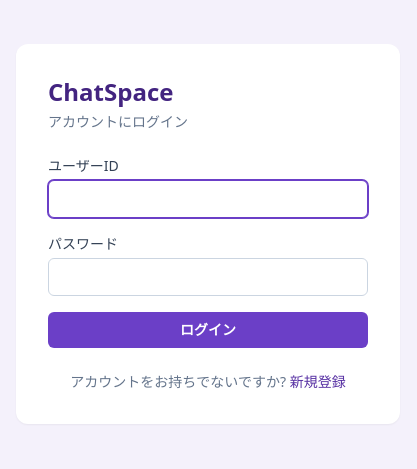
Test: LoginPage › 再送信時に前回のエラー表示をクリアする
Step 1. Type "alice" into the field labelled "ユーザーID" → x=208, y=199, box left=48, top=180, right=368, bottom=218
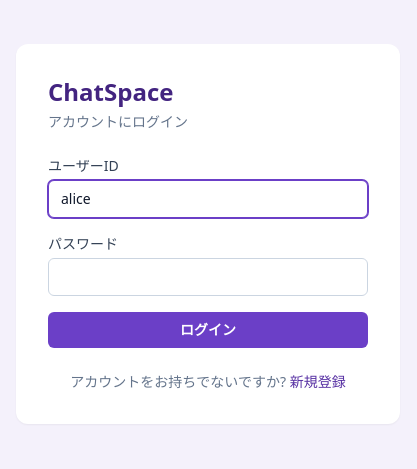
Step 2. Type "wrong" into the password field labelled "パスワード" → x=208, y=277, box left=48, top=258, right=368, bottom=296
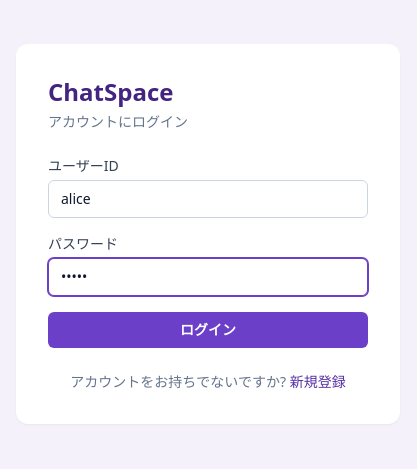
Step 3. Click the button "ログイン" → x=208, y=330, box left=48, top=312, right=368, bottom=348
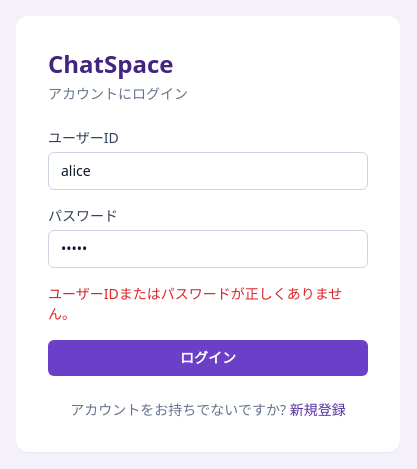
Expected: the text "ユーザーIDまたはパスワードが正しくありません。" is shown, left=48, top=284, right=368, bottom=324
Step 4. Click the button "ログイン" → x=208, y=358, box left=48, top=340, right=368, bottom=376
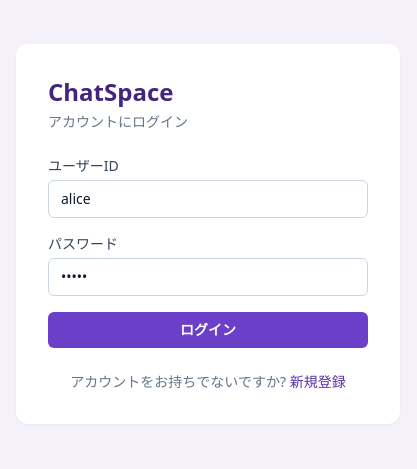
Expected: the text "ユーザーIDまたはパスワードが正しくありません。" is gone
